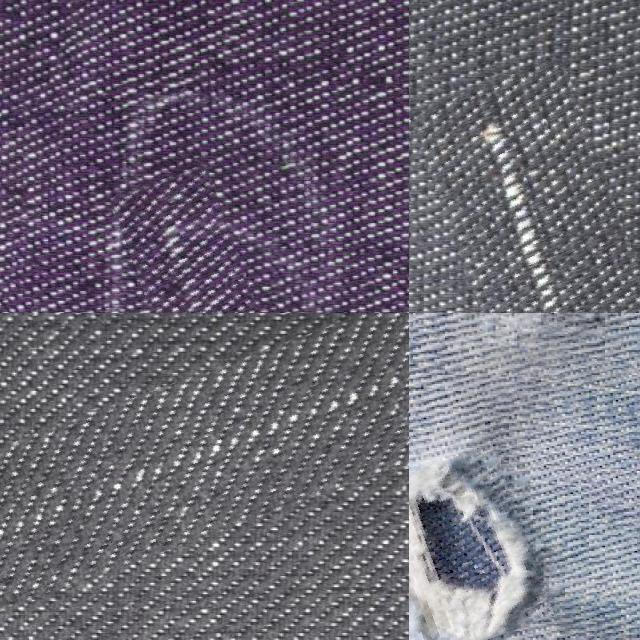other: (409, 452, 541, 640)
stains: (0, 337, 409, 596), (444, 62, 640, 313), (132, 167, 278, 313)
